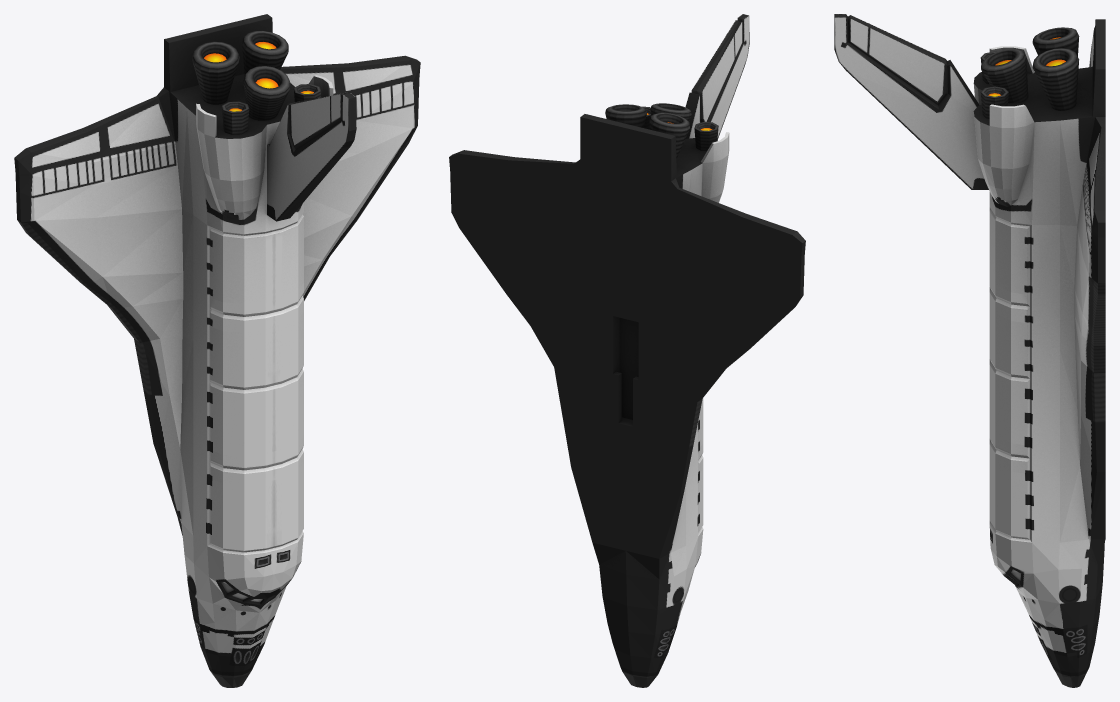
File: shuttle.obj
3 renders of one model, left to right at view 1: azimuth 30°, elevation 25°; view 2: azimuth 150°, elevation 25°; view 3: azimuth 270°, elevation 25°, orthographic. The views are drawn at different scales.
Parts seen in each view (by area): view 1: Object.1; view 2: Object.1; view 3: Object.1.
Part boxes in pixels (left/top/right/bottom): Object.1: left=14, top=14, right=420, bottom=687; Object.1: left=449, top=14, right=805, bottom=687; Object.1: left=834, top=14, right=1105, bottom=687.
Size of the model in its own units: 351 by 565 by 207.
1 material, 1 textured.
